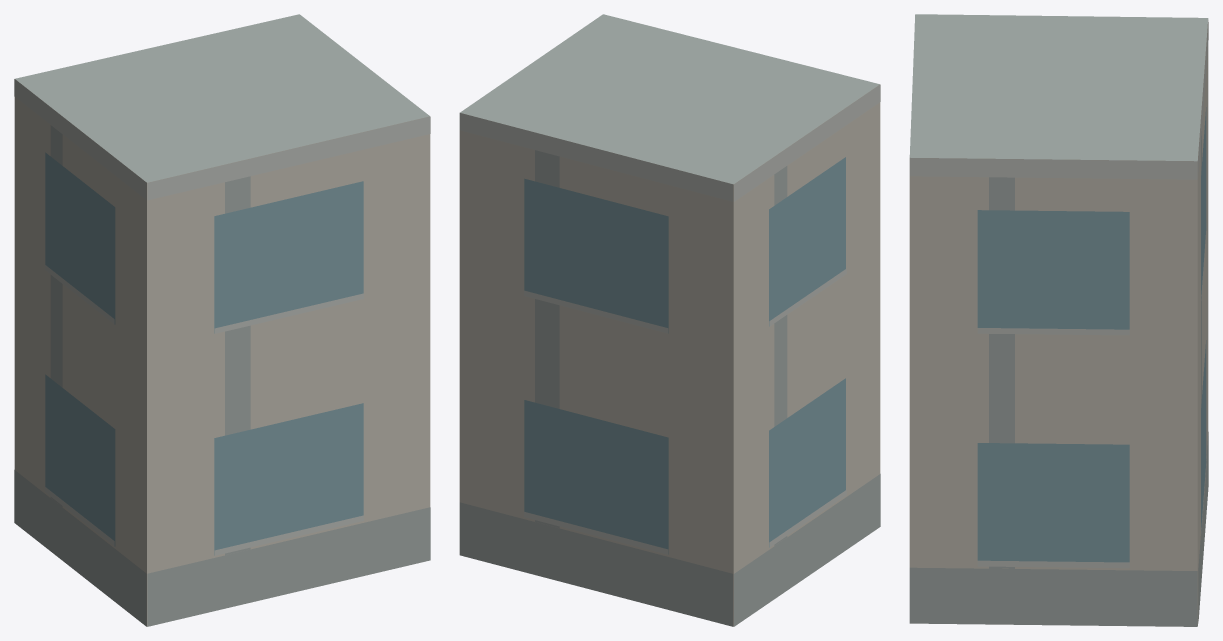
Rendered from survey-upis-32704480.glb.
The picture shows the model from 3 angles, left to right: view 1: azimuth 30°, elevation 25°; view 2: azimuth 150°, elevation 25°; view 3: azimuth 270°, elevation 25°; orthographic projection. The views are drawn at different scales.
Visible parts, largest first — view 1: survey-upis-32704480.tmp; view 2: survey-upis-32704480.tmp; view 3: survey-upis-32704480.tmp.
Boxes of the visible parts, x1,y1,x2,y2 form: survey-upis-32704480.tmp: (14, 14, 430, 626); survey-upis-32704480.tmp: (459, 14, 880, 626); survey-upis-32704480.tmp: (909, 14, 1208, 626).
Bounding box in the file's own units: 4.14 × 6.1 × 3.56.
